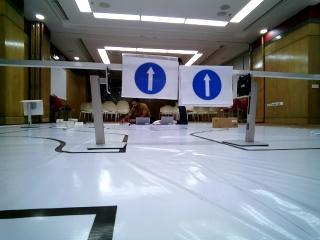straight: (123, 53, 178, 98), (181, 64, 231, 108)
